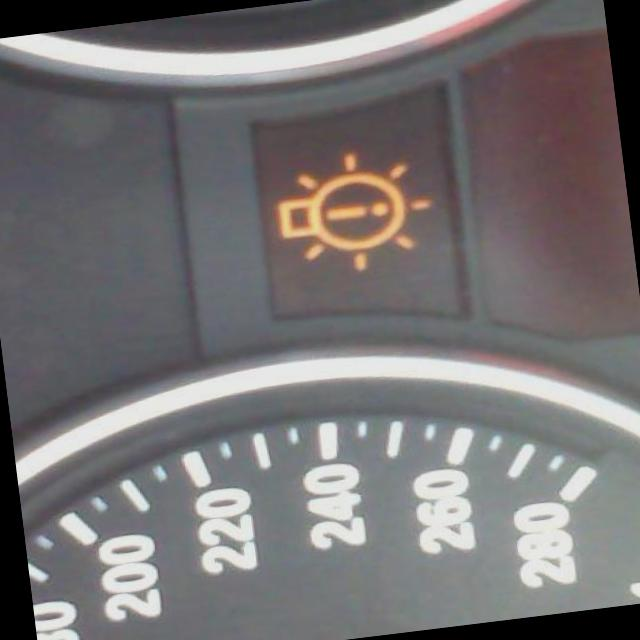kontrolka: (255, 134, 445, 284)
